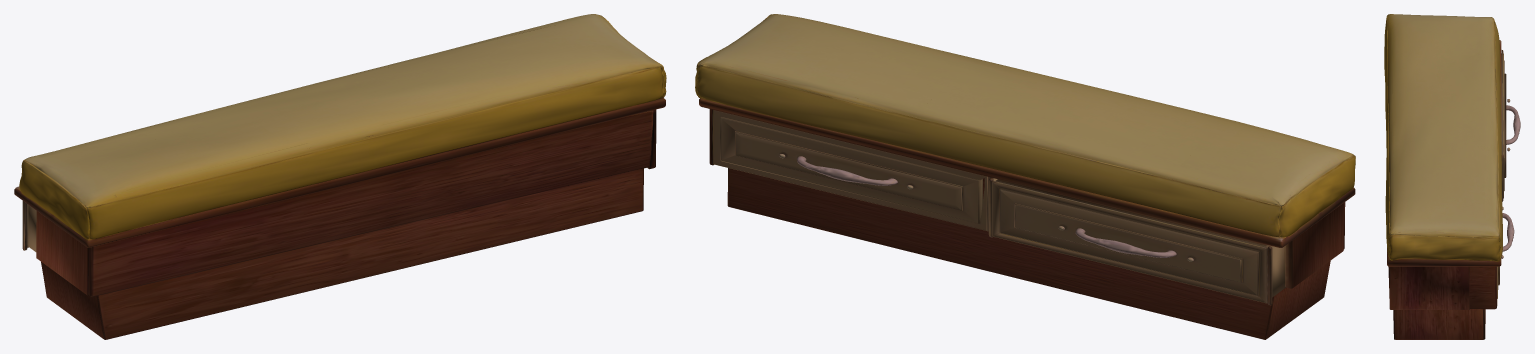
The model's file is guest-bench.glb.
The picture shows the model from 3 angles, left to right: view 1: azimuth 30°, elevation 25°; view 2: azimuth 150°, elevation 25°; view 3: azimuth 270°, elevation 25°; orthographic projection. The views are drawn at different scales.
Visible parts, largest first — view 1: tripo_node_746b5862-f8af-4c73-99ef-a71d5acc40ed; view 2: tripo_node_746b5862-f8af-4c73-99ef-a71d5acc40ed; view 3: tripo_node_746b5862-f8af-4c73-99ef-a71d5acc40ed.
Part boxes in pixels (left/top/right/bottom): tripo_node_746b5862-f8af-4c73-99ef-a71d5acc40ed: left=14, top=14, right=666, bottom=339; tripo_node_746b5862-f8af-4c73-99ef-a71d5acc40ed: left=695, top=14, right=1355, bottom=339; tripo_node_746b5862-f8af-4c73-99ef-a71d5acc40ed: left=1384, top=14, right=1520, bottom=339.
Size of the model in its own units: 2.15 by 0.55 by 0.55.
Materials: 1 (1 with a texture image).
